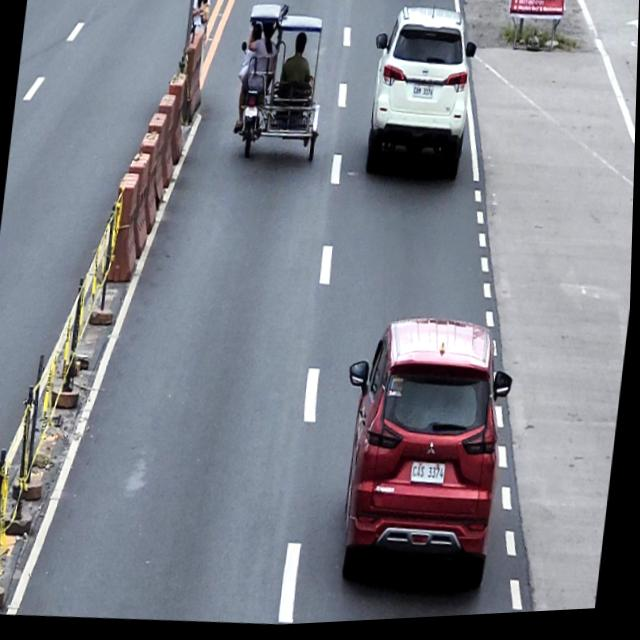Car: (327, 311, 521, 601), (361, 2, 481, 184)
License-Plate: (411, 462, 450, 491), (412, 88, 435, 104), (245, 106, 259, 122)
Tricycle: (229, 0, 334, 169)
